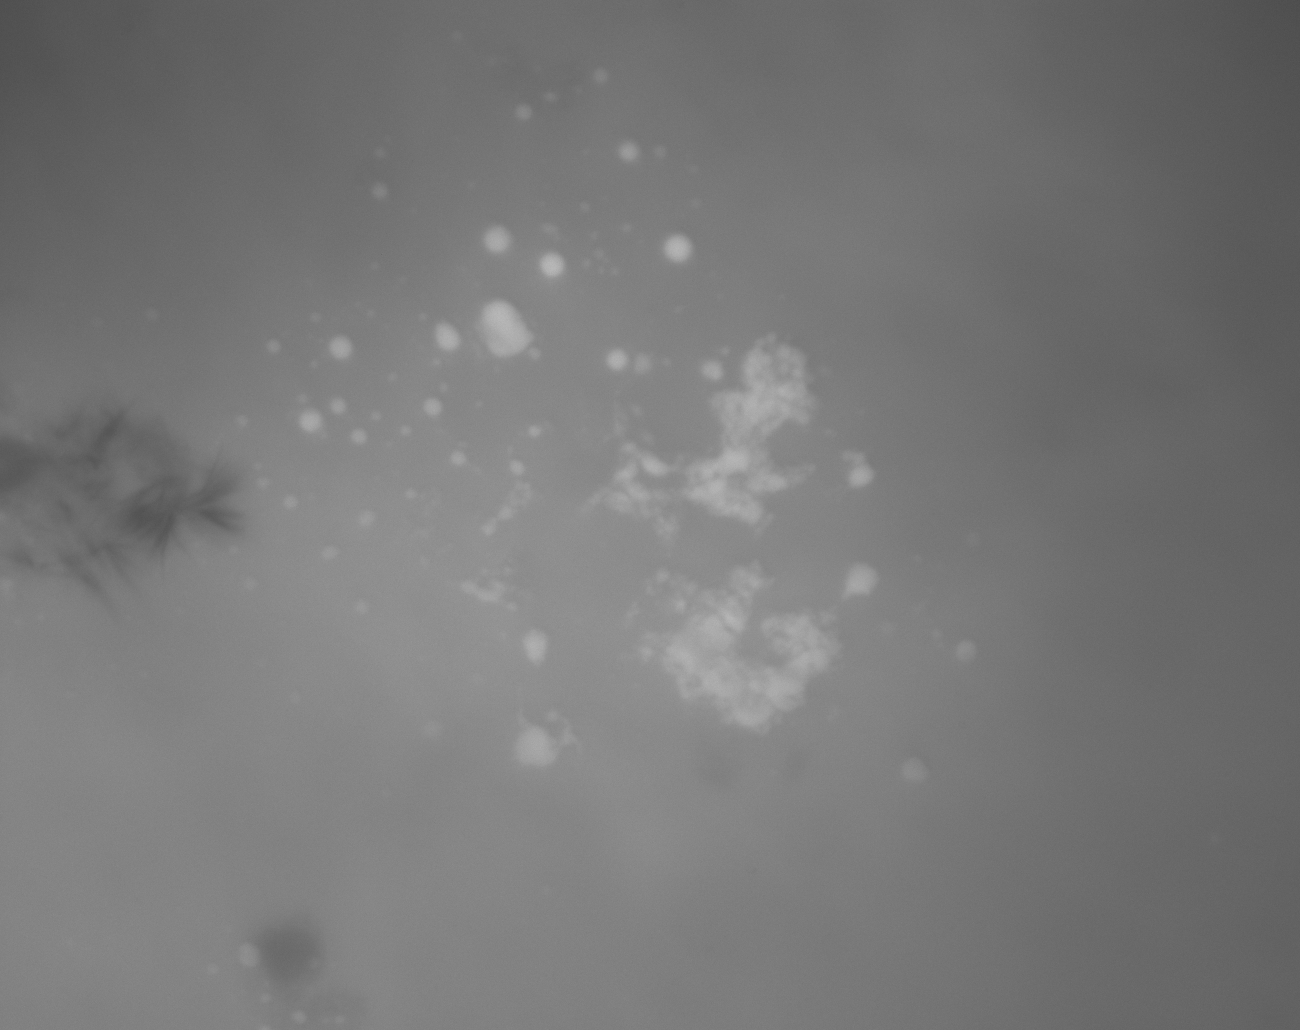Others: (99, 123, 1000, 879), (438, 240, 1212, 905)
